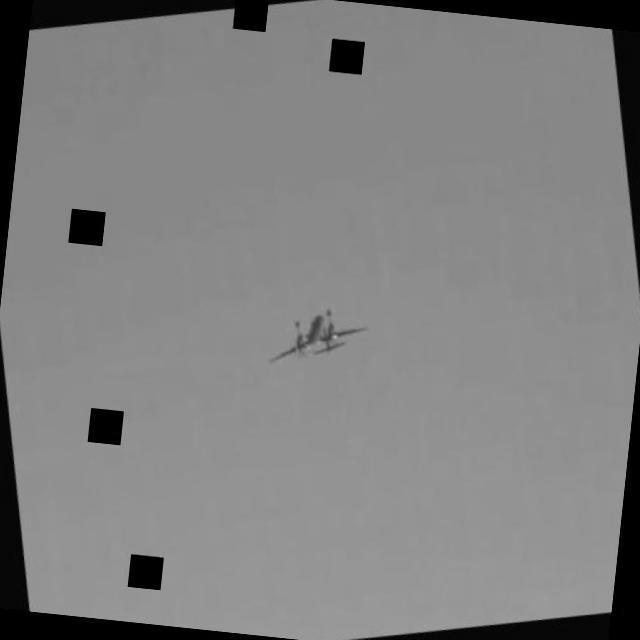aeroplane: (261, 306, 374, 376)
